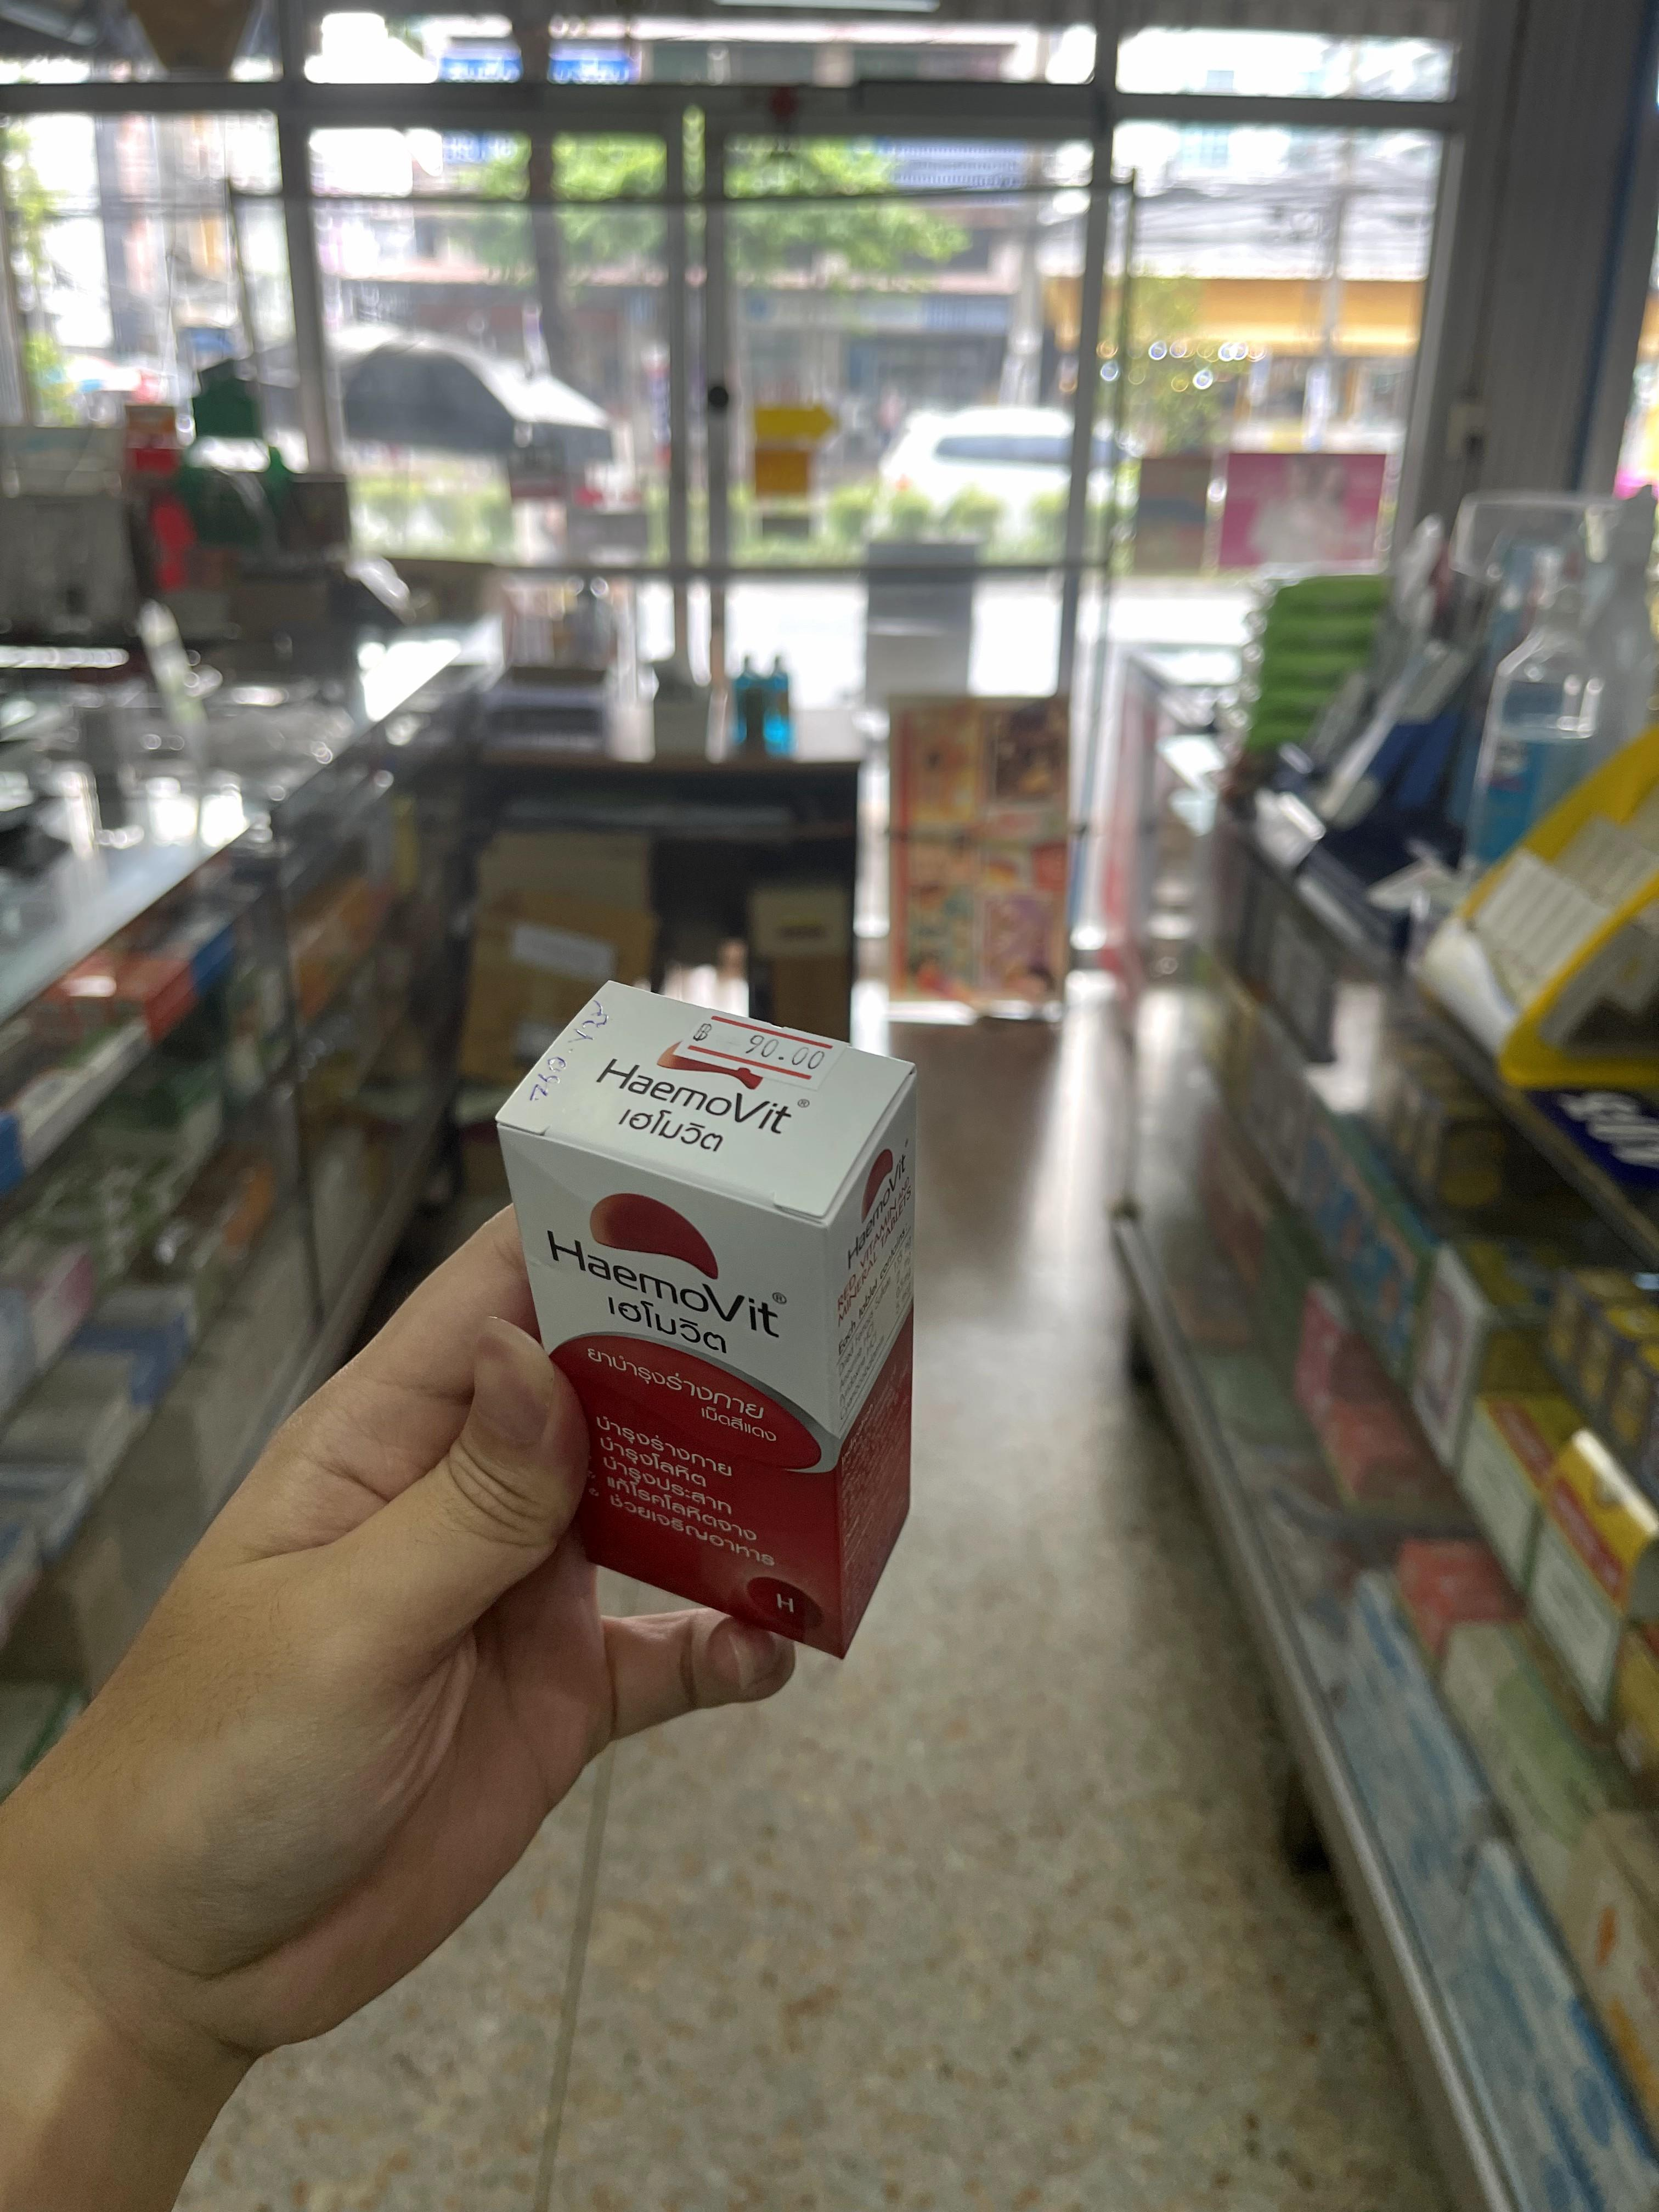Heamovit: (498, 977, 924, 1660)
